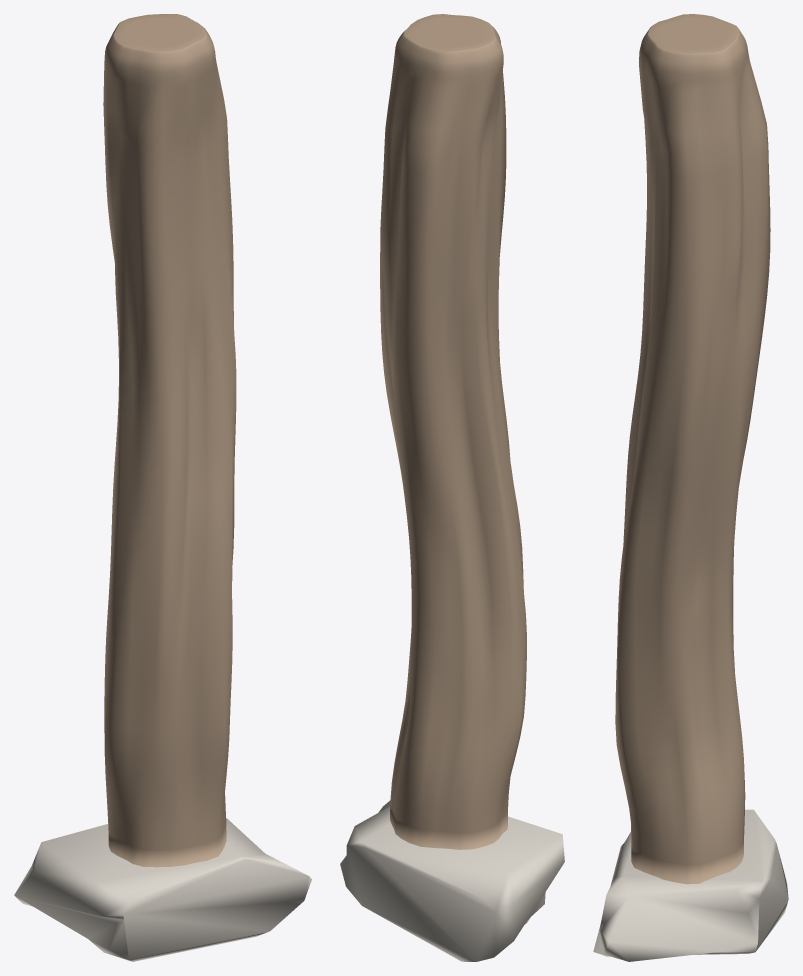
Rendered from bagana-f2-3x10x3-v2.glb.
3 views of the same model, side by side, from view 1: azimuth 30°, elevation 25°; view 2: azimuth 150°, elevation 25°; view 3: azimuth 270°, elevation 25° (orthographic). The views are drawn at different scales.
Parts seen in each view (by area): view 1: bagana_wood, bagana_stone; view 2: bagana_wood, bagana_stone; view 3: bagana_wood, bagana_stone.
Part boxes in pixels (box(x1,y1,x2,y2)): bagana_wood: box(103, 14, 236, 867); bagana_stone: box(14, 818, 311, 961); bagana_wood: box(380, 14, 526, 849); bagana_stone: box(340, 800, 564, 961); bagana_wood: box(615, 14, 770, 884); bagana_stone: box(593, 809, 788, 961).
Size of the model in its own units: 0.6304 by 2.51 by 0.4895.
